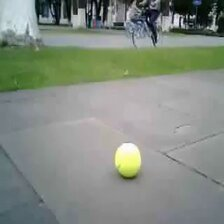tennis: (115, 142, 142, 178)
